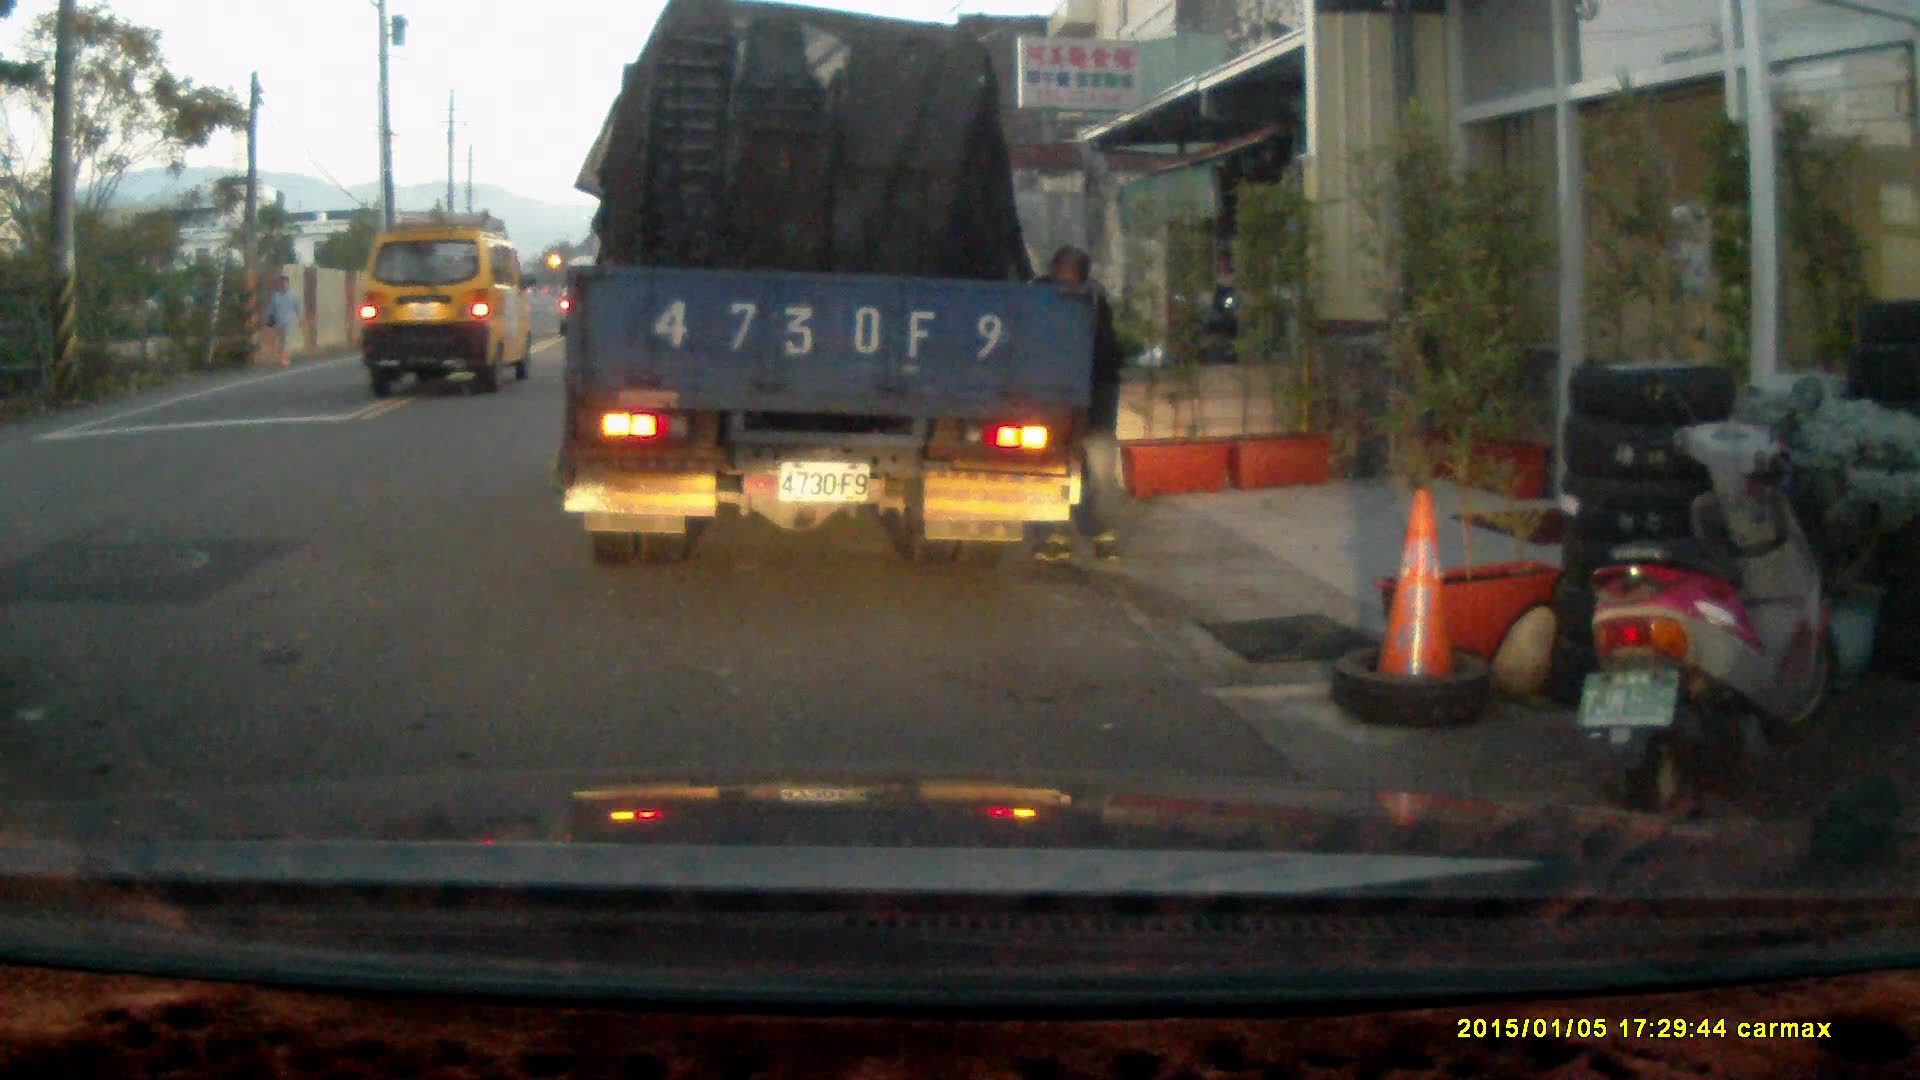pedestrian: (1019, 245, 1127, 570), (260, 276, 299, 368)
vehicle: (564, 23, 1093, 566), (359, 230, 540, 396)
